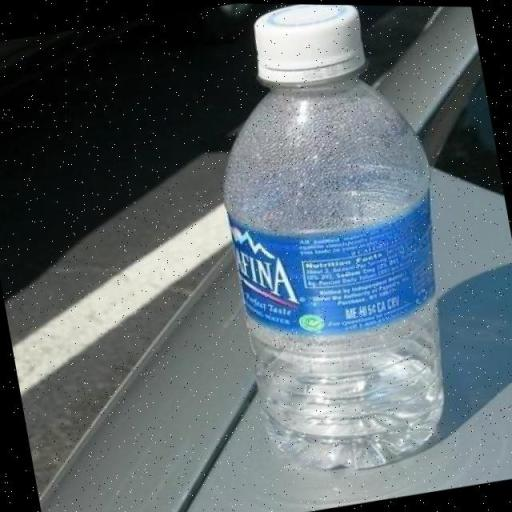plastic: (190, 2, 482, 488)
